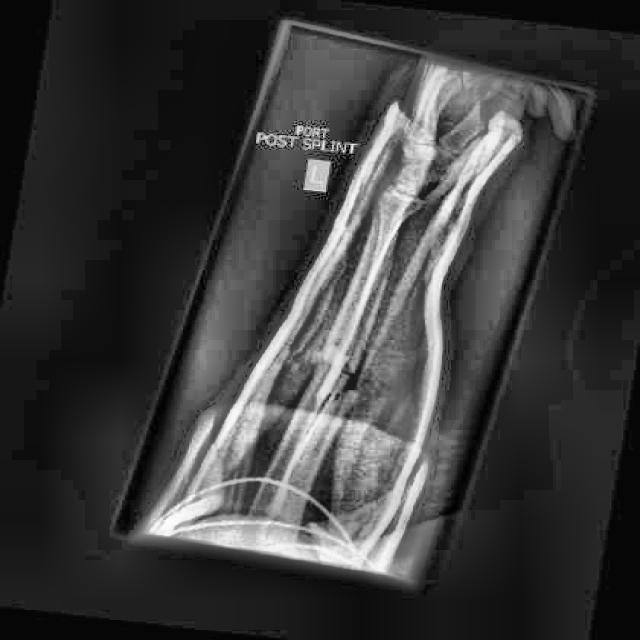forearm fracture: (275, 316, 395, 429)
